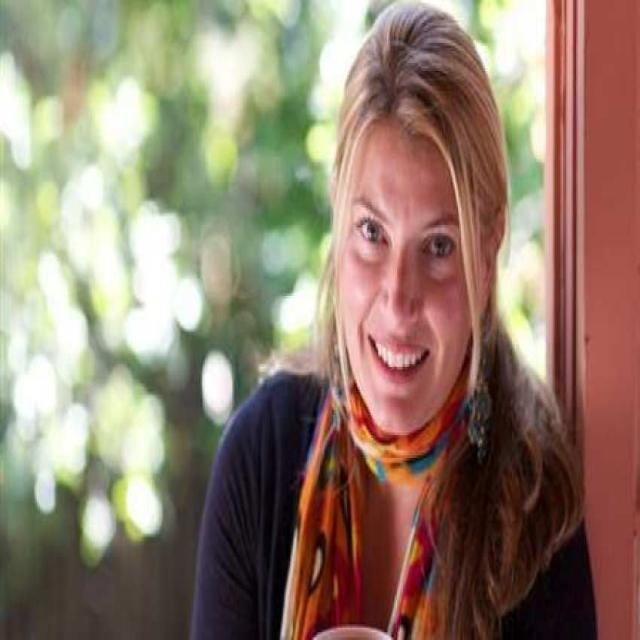human: (184, 13, 597, 640)
